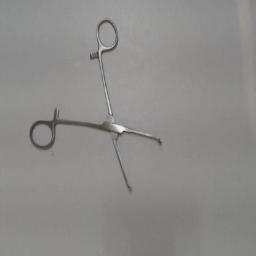Allis Tissue Forceps: (26, 12, 170, 200)
